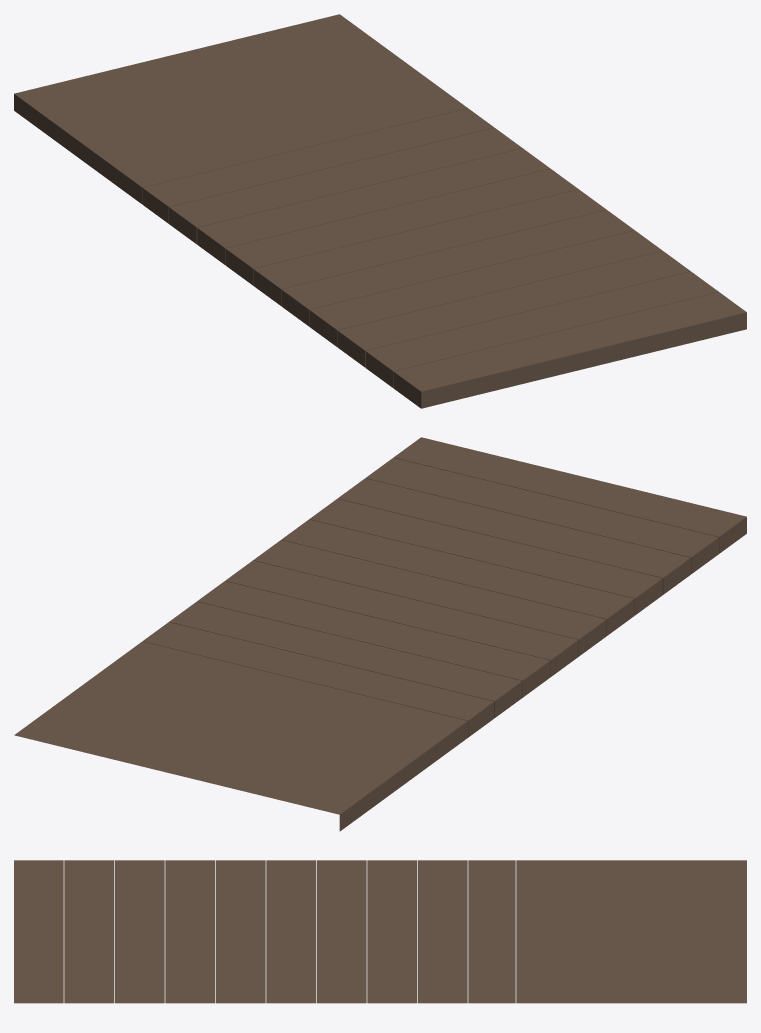
File: Parquet_9.fbx
3 renders of one model, top to bottom at view 1: azimuth 30°, elevation 25°; view 2: azimuth 150°, elevation 25°; view 3: azimuth 270°, elevation 25°, orthographic. The views are drawn at different scales.
Visible parts, largest first — view 1: Parquet_9; view 2: Parquet_9; view 3: Parquet_9.
Part boxes in pixels (bbox=[...]): Parquet_9: bbox=[14, 14, 746, 408]; Parquet_9: bbox=[14, 437, 746, 831]; Parquet_9: bbox=[14, 860, 746, 1003].
Size of the model in its own units: 227 by 491 by 11.3.
